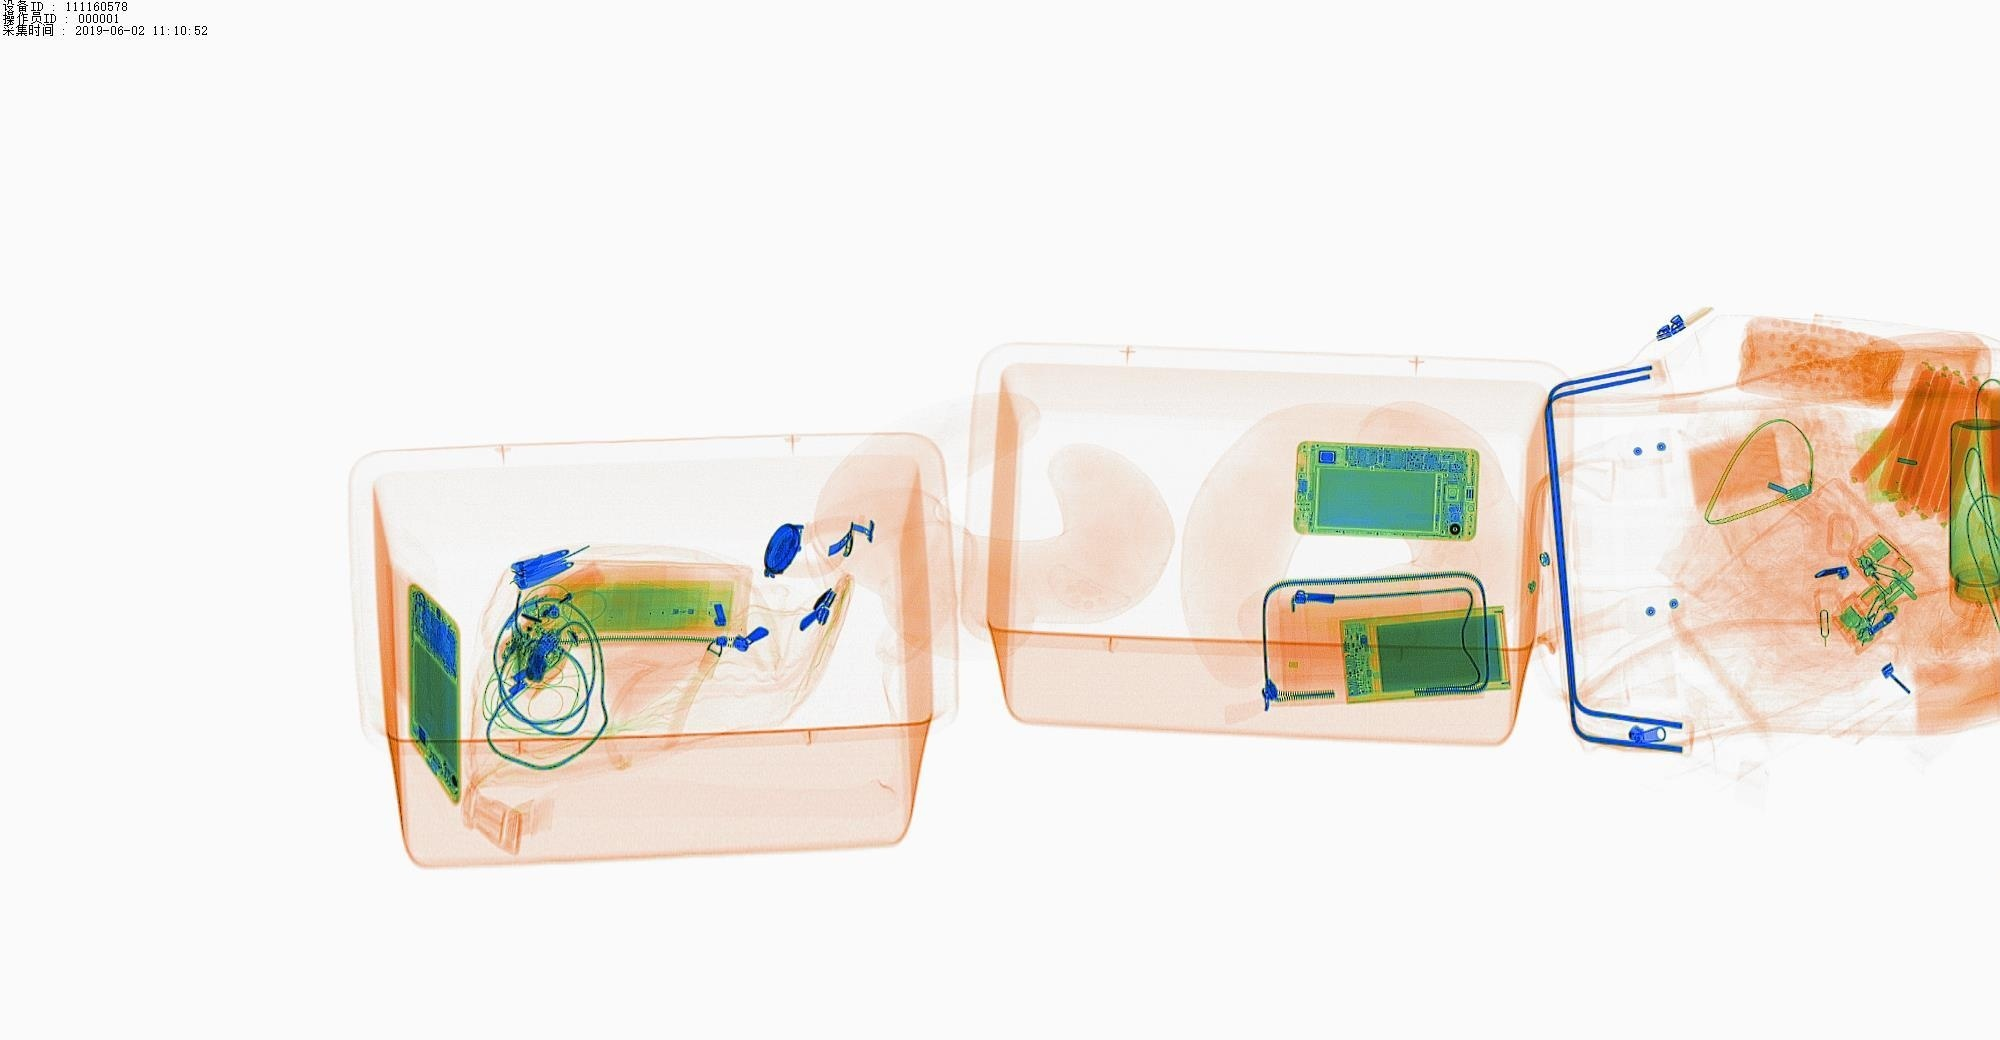NonmetallicFire: (511, 546, 634, 640)
